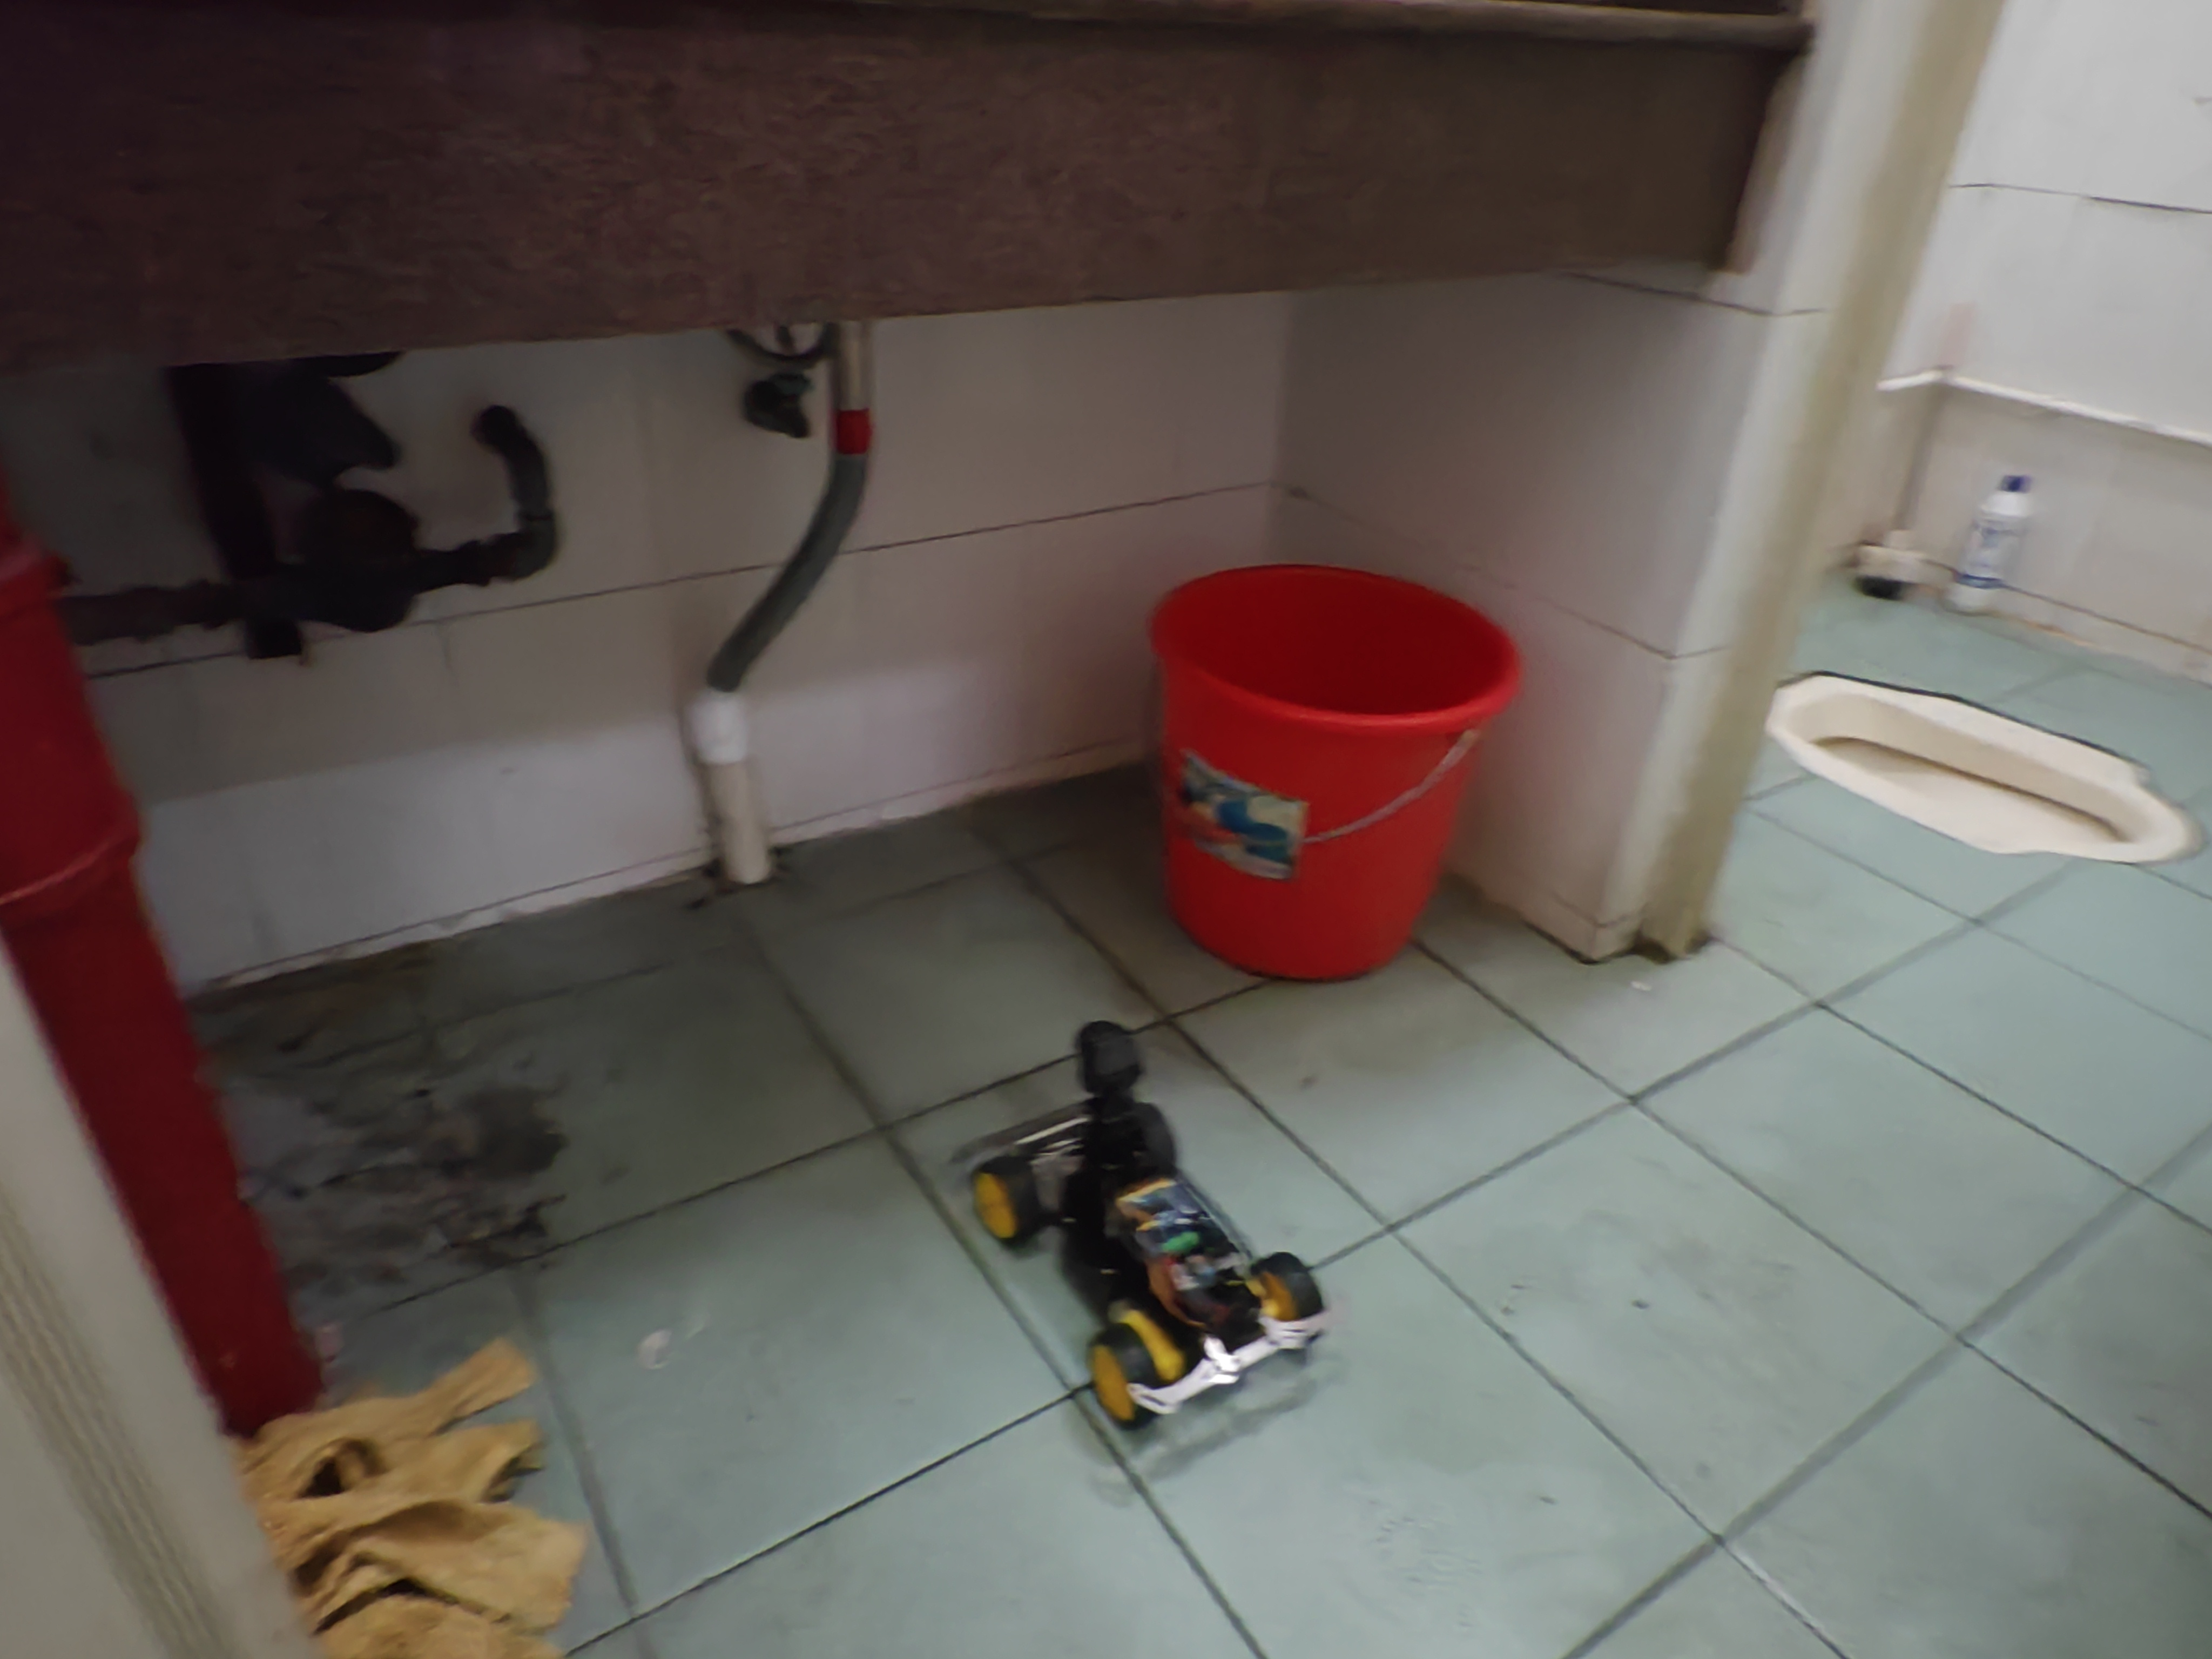car: (948, 997, 1343, 1446)
